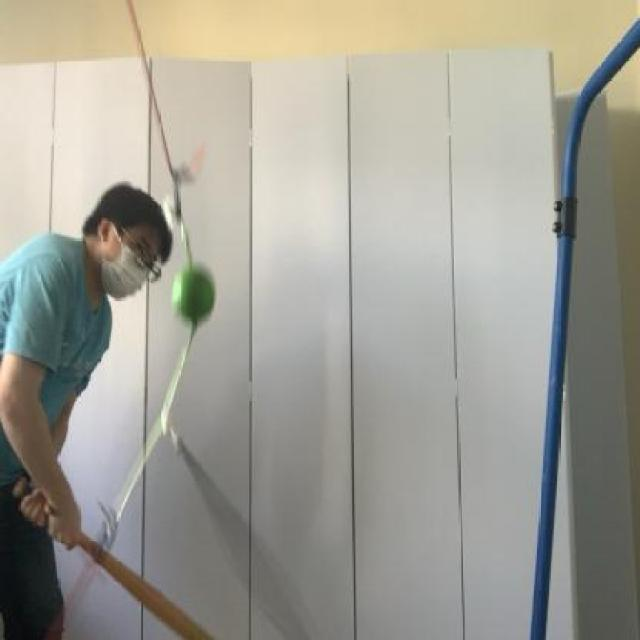baseball: (175, 252, 214, 325)
